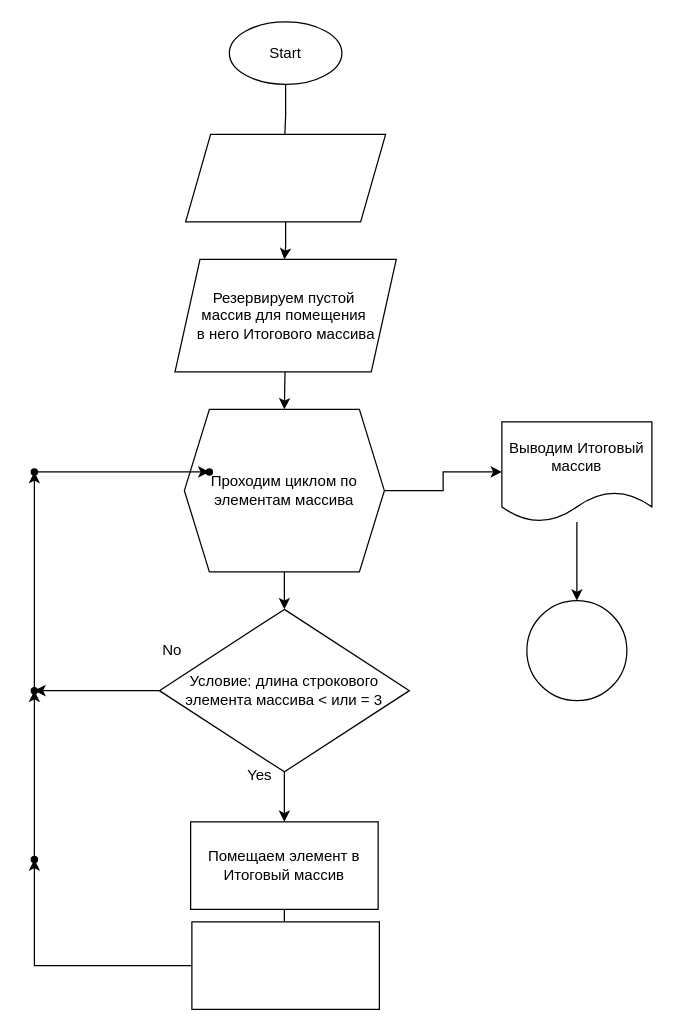
The diagram is 674 pixels wide and 1031 high, and some of its shapes have lost their labels. Here are the shapes that lost their labels. From the top down, the box of each, then its label:
(184, 133, 386, 222): Вводим массив строк
(526, 599, 627, 701): End
(191, 921, 379, 1009): Увеличиваем счетчик индекса Итогового массива на + 1
